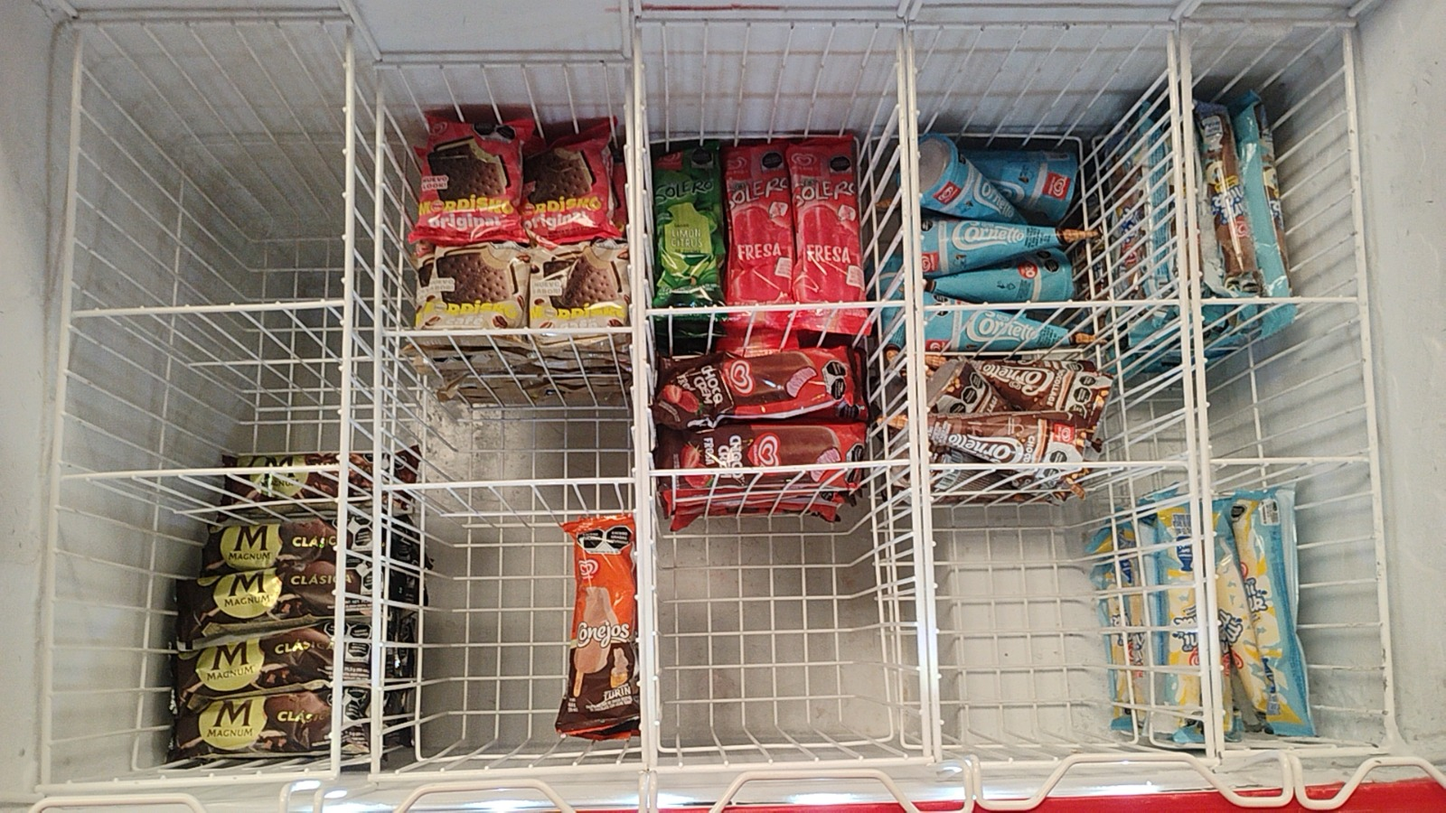rejilla: (1345, 31, 1392, 718), (1169, 37, 1213, 756), (43, 33, 83, 783), (1183, 41, 1222, 751), (908, 34, 941, 754), (898, 32, 929, 756), (332, 32, 354, 773), (636, 65, 654, 764), (629, 106, 647, 763), (372, 72, 383, 772), (45, 774, 332, 791), (69, 302, 344, 316), (372, 766, 643, 779), (61, 467, 341, 479), (647, 462, 911, 474), (656, 760, 930, 771), (646, 303, 906, 313), (923, 301, 1181, 309), (379, 480, 636, 488), (76, 19, 349, 26), (376, 62, 632, 68), (381, 329, 632, 335), (929, 463, 1185, 468), (639, 21, 902, 25), (912, 24, 1173, 28), (1185, 21, 1351, 26), (1209, 458, 1370, 463), (1201, 299, 1359, 303), (1299, 749, 1386, 756), (983, 764, 1057, 767), (1224, 753, 1260, 756), (1204, 760, 1213, 764)
